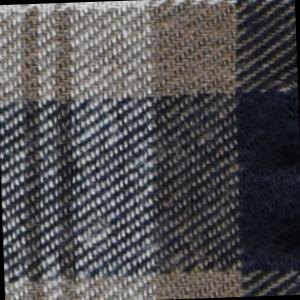Wrinkle: (239, 148, 300, 279)
